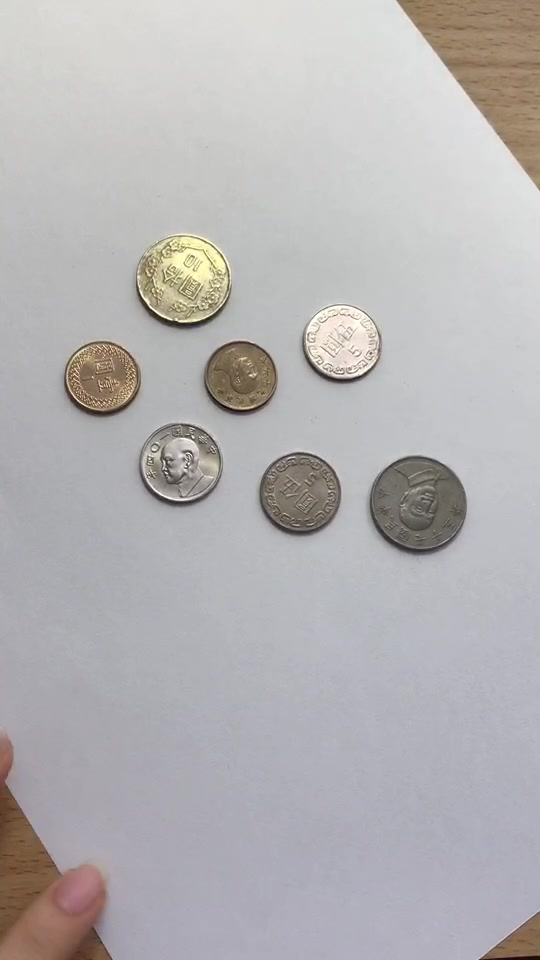1 dallar: (61, 336, 148, 416), (196, 335, 283, 415)
10 dallar: (132, 226, 239, 329), (363, 450, 470, 553)
5 dallar: (135, 419, 227, 508), (295, 298, 387, 387), (255, 451, 347, 540)
